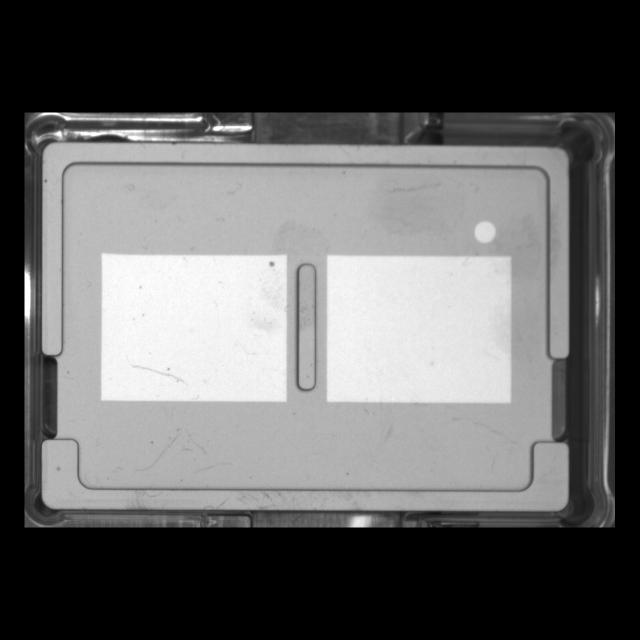door: (31, 428, 580, 520)
point: (464, 213, 506, 249)
